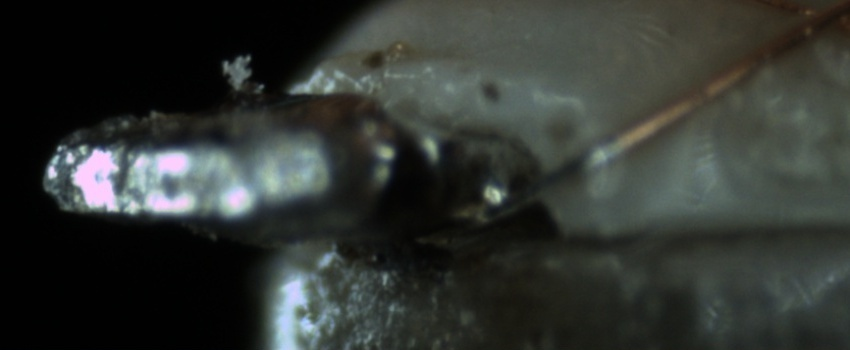CL: (775, 0, 849, 44)
TS: (473, 132, 623, 231)
TTCW: (478, 113, 652, 225)
